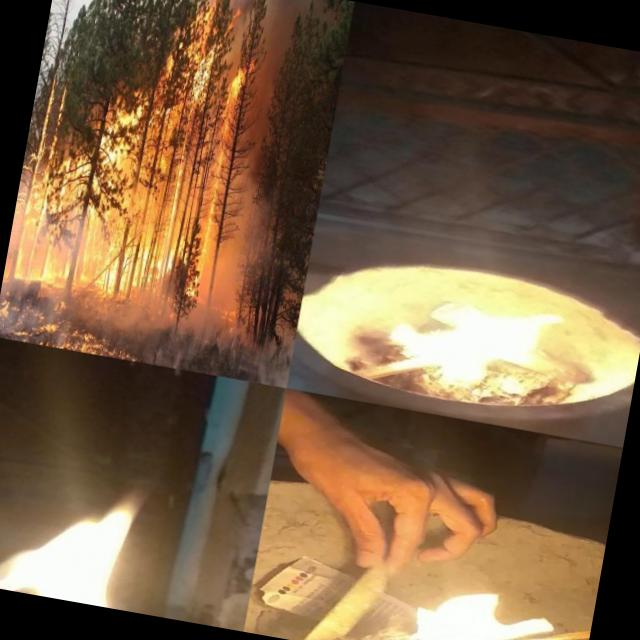fire: (4, 0, 269, 310), (330, 240, 570, 398), (0, 424, 177, 614), (269, 565, 583, 640), (0, 272, 71, 348), (61, 318, 139, 361)
smoke: (214, 5, 314, 318), (134, 300, 298, 388), (67, 288, 145, 330), (227, 0, 333, 15)
